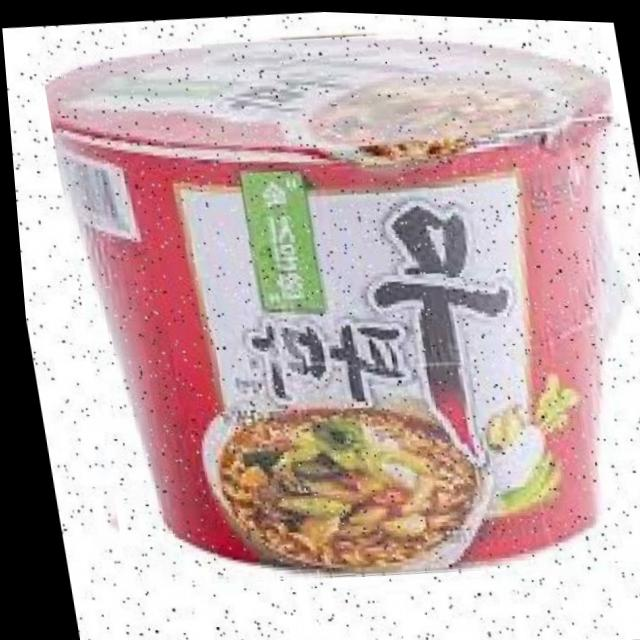Miscellaneous: (33, 1, 640, 603)
